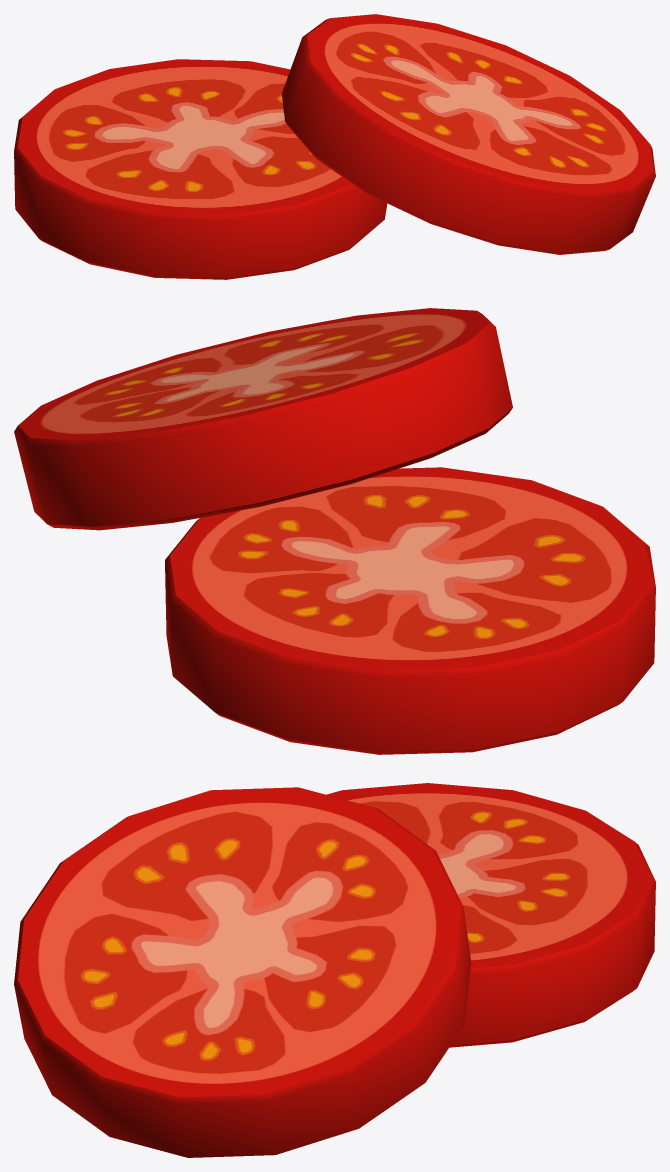
Rendered from SM_Tomato_CB.fbx.
3 renders of one model, top to bottom at view 1: azimuth 30°, elevation 25°; view 2: azimuth 150°, elevation 25°; view 3: azimuth 270°, elevation 25°, orthographic. The views are drawn at different scales.
Parts seen in each view (by area): view 1: Tomato_Plate; view 2: Tomato_Plate; view 3: Tomato_Plate.
Boxes of the visible parts, x1,y1,x2,y2 form: Tomato_Plate: (14, 14, 655, 279); Tomato_Plate: (14, 308, 655, 754); Tomato_Plate: (14, 783, 655, 1157).
Bounding box in the file's own units: 105 × 34.23 × 93.5.
